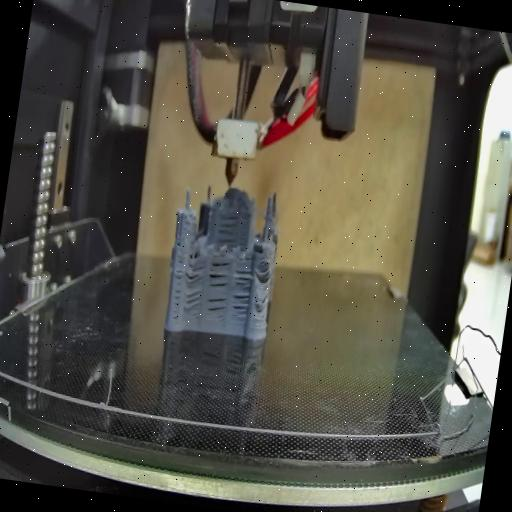cracks: (228, 264, 254, 322), (168, 257, 186, 322), (216, 212, 242, 246), (207, 258, 234, 290), (204, 293, 230, 323), (181, 288, 203, 314), (184, 263, 204, 284), (256, 263, 274, 286), (254, 292, 269, 317), (176, 234, 182, 250)
